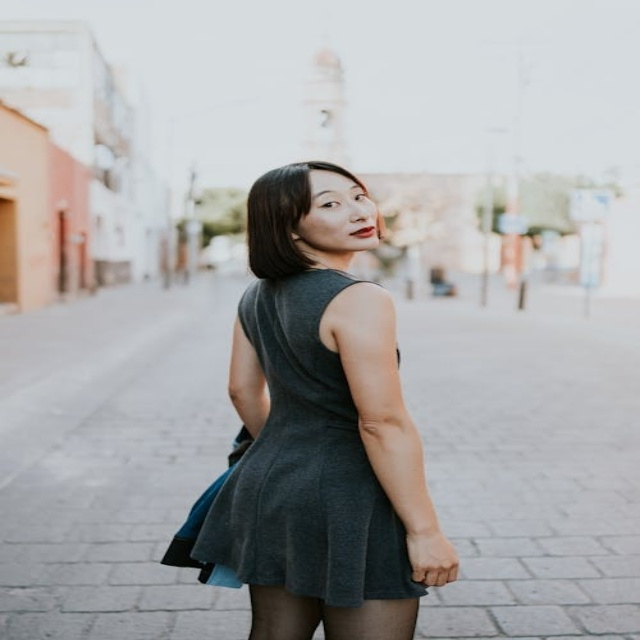Sin_gafas: (312, 185, 371, 213)
Sin_mascara: (343, 223, 383, 248)
